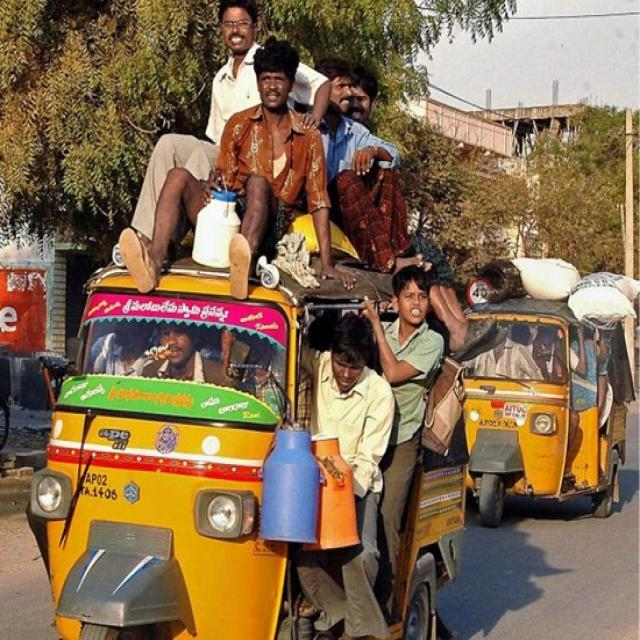autorickshaw: (27, 257, 467, 640), (464, 298, 634, 525)
